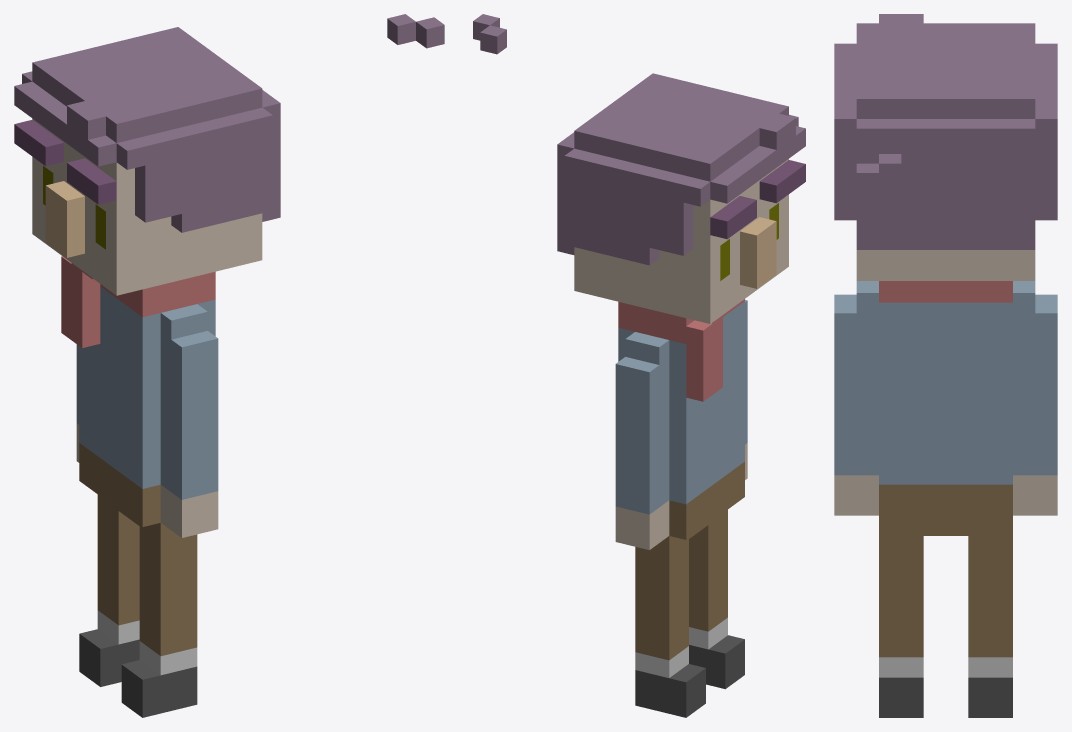
Rendered from Char_vengi_nouv.gltf.
The picture shows the model from 3 angles, left to right: view 1: azimuth 30°, elevation 25°; view 2: azimuth 150°, elevation 25°; view 3: azimuth 270°, elevation 25°; orthographic projection. The views are drawn at different scales.
Parts seen in each view (by area): view 1: Layer.2, Layer.3; view 2: Layer.2, Layer.3; view 3: Layer.2, Layer.3.
Part boxes in pixels (left/top/right/bottom): Layer.2: left=14, top=27, right=280, bottom=717; Layer.3: left=387, top=14, right=444, bottom=48; Layer.2: left=557, top=73, right=805, bottom=717; Layer.3: left=473, top=14, right=506, bottom=54; Layer.2: left=834, top=14, right=1057, bottom=717; Layer.3: left=856, top=154, right=901, bottom=193.
Size of the model in its own units: 19 by 33 by 10.
